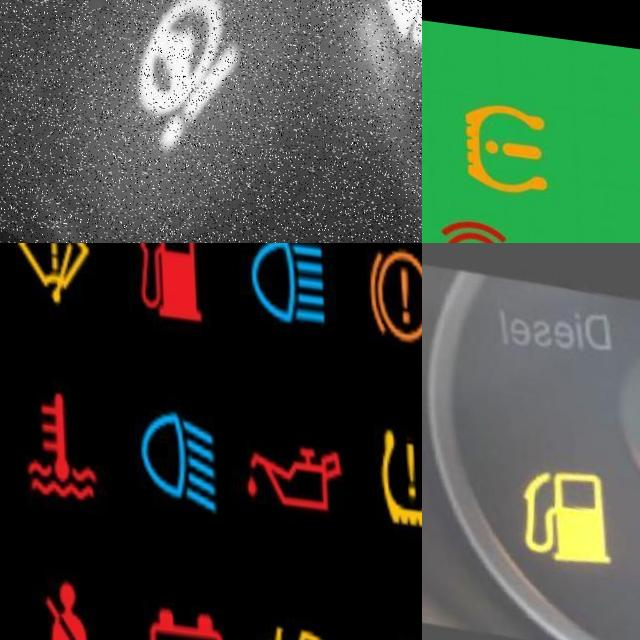Electronic Power Steering: (89, 0, 279, 176)
Low fuel level: (507, 432, 616, 565)
